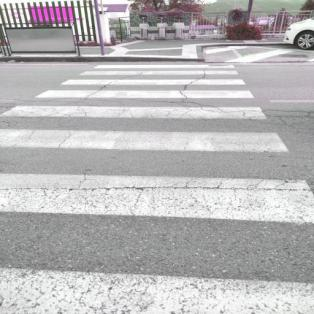Paso de Cebra: (0, 167, 314, 313), (0, 87, 271, 125)
